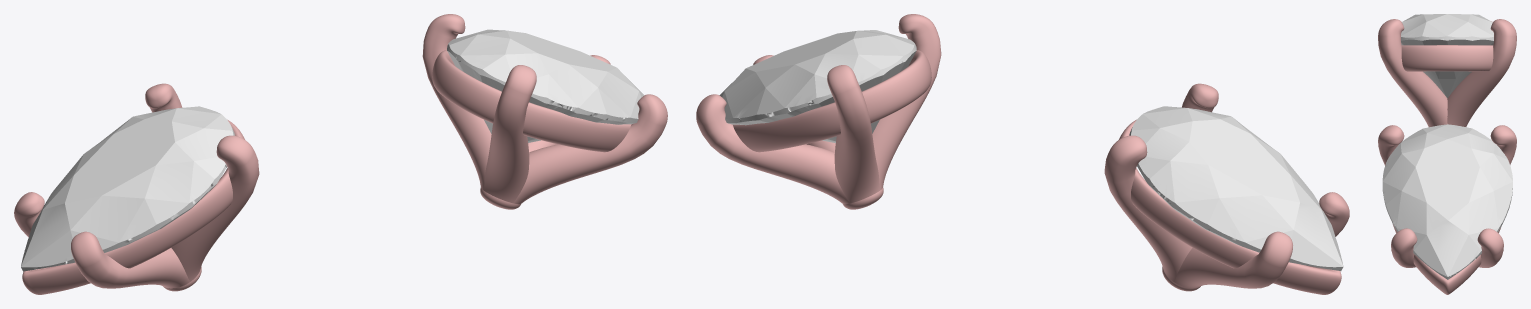
Rendered from PEAR.glb.
The picture shows the model from 3 angles, left to right: view 1: azimuth 30°, elevation 25°; view 2: azimuth 150°, elevation 25°; view 3: azimuth 270°, elevation 25°; orthographic projection. The views are drawn at different scales.
Visible parts, largest first — view 1: pear.003; view 2: pear.003; view 3: pear.003.
Boxes of the visible parts, x1,y1,x2,y2 form: pear.003: (14,14,667,294); pear.003: (696,14,1349,294); pear.003: (1378,14,1516,294).
Bounding box in the file's own units: 11.62 × 2.97 × 2.88.
